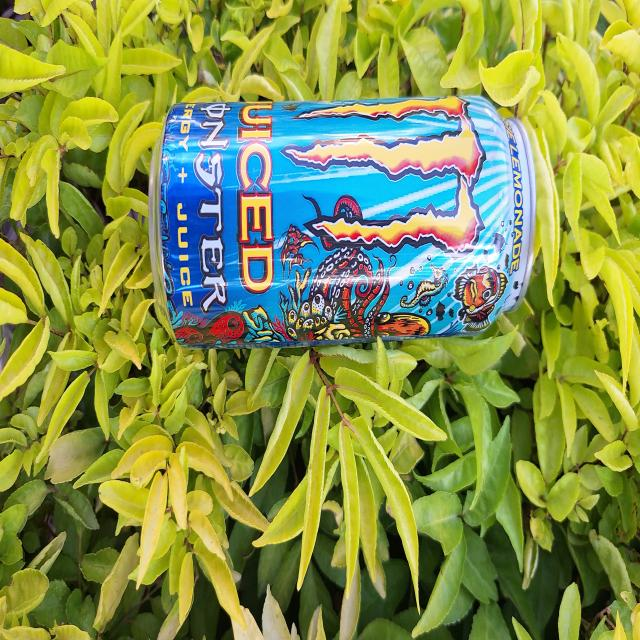Monster Aussie Lemonade: (154, 96, 539, 351)
